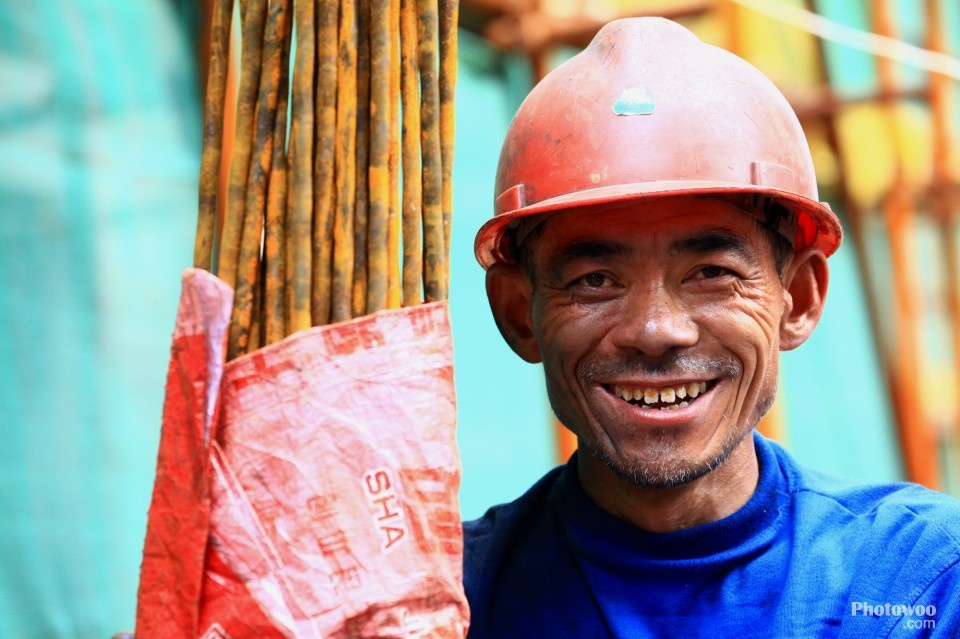red: (478, 14, 820, 487)
